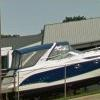Boat: (7, 41, 98, 99)
